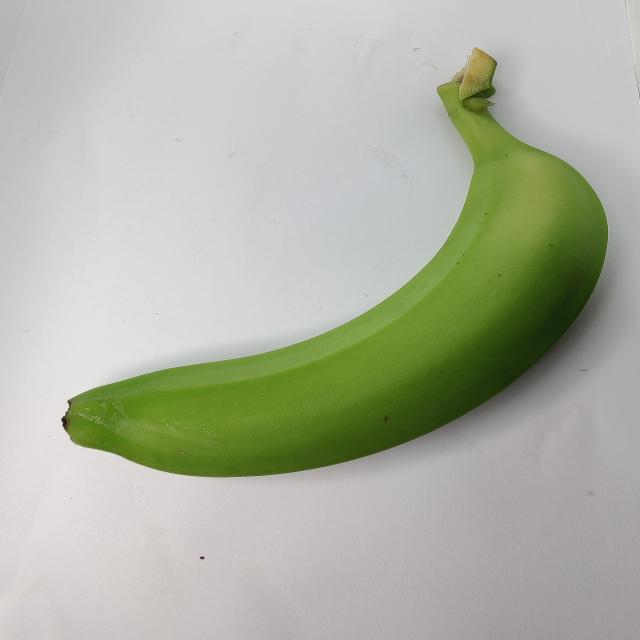Raw: (19, 39, 631, 498)
